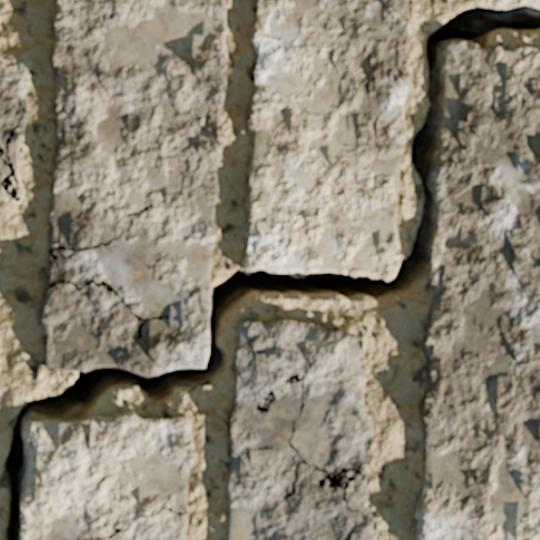brick: (40, 0, 226, 375), (416, 40, 539, 539), (243, 0, 411, 278), (227, 319, 373, 539), (21, 412, 195, 539), (0, 62, 33, 148), (115, 511, 187, 539), (10, 108, 27, 181), (487, 0, 539, 5), (0, 185, 14, 202), (0, 162, 9, 180), (19, 184, 24, 196)
crack: (0, 1, 539, 539), (283, 361, 367, 513), (49, 200, 168, 266), (43, 279, 171, 340), (85, 506, 188, 539), (0, 103, 27, 202)
